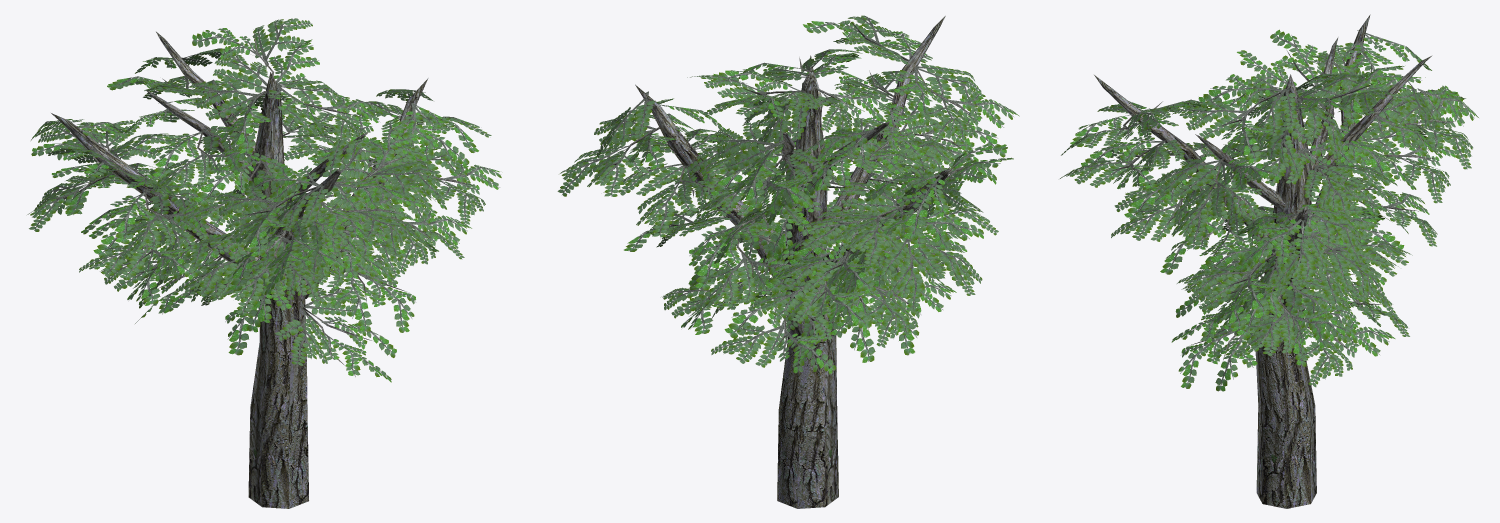
File: Tree_01_03.obj
The picture shows the model from 3 angles, left to right: view 1: azimuth 30°, elevation 25°; view 2: azimuth 150°, elevation 25°; view 3: azimuth 270°, elevation 25°; orthographic projection. The views are drawn at different scales.
Parts seen in each view (by area): view 1: polySurface991; view 2: polySurface991; view 3: polySurface991.
Boxes of the visible parts, <box> form: polySurface991: <box>27,18,501,508</box>; polySurface991: <box>557,15,1019,508</box>; polySurface991: <box>1060,14,1478,508</box>.
Size of the model in its own units: 169 by 162 by 149.
